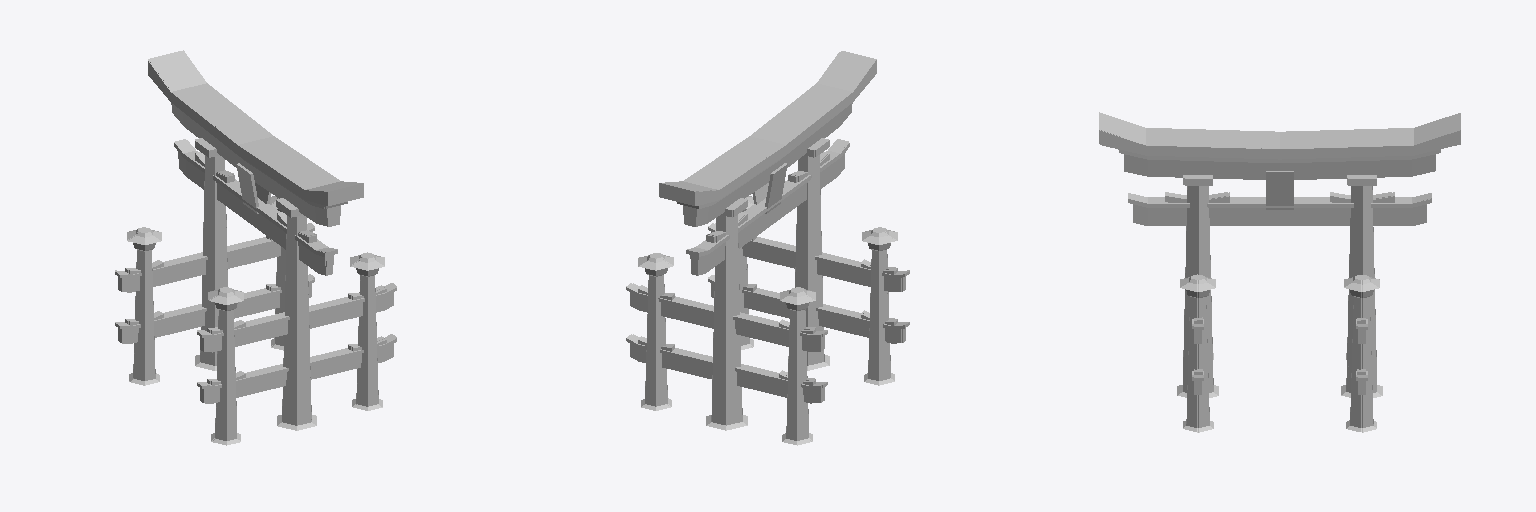
File: large.obj
The picture shows the model from 3 angles: view 1: azimuth 30°, elevation 25°; view 2: azimuth 150°, elevation 25°; view 3: azimuth 270°, elevation 25°; orthographic projection.
Parts seen in each view (by area): view 1: OWnG_largeGate(RyobuTorii)_01_Cylinder.002, OWnG_largeGate(RyobuTorii)_01_Cylinder.001; view 2: OWnG_largeGate(RyobuTorii)_01_Cylinder.001, OWnG_largeGate(RyobuTorii)_01_Cylinder.002; view 3: OWnG_largeGate(RyobuTorii)_01_Cylinder.001, OWnG_largeGate(RyobuTorii)_01_Cylinder.002.
Boxes of the visible parts, <box> form: OWnG_largeGate(RyobuTorii)_01_Cylinder.002: <box>115,60,396,445</box>; OWnG_largeGate(RyobuTorii)_01_Cylinder.001: <box>115,50,396,441</box>; OWnG_largeGate(RyobuTorii)_01_Cylinder.001: <box>626,52,905,445</box>; OWnG_largeGate(RyobuTorii)_01_Cylinder.002: <box>630,51,909,441</box>; OWnG_largeGate(RyobuTorii)_01_Cylinder.001: <box>1100,113,1460,432</box>; OWnG_largeGate(RyobuTorii)_01_Cylinder.002: <box>1099,112,1445,432</box>.
Bounding box in the file's own units: 9.86 × 12.94 × 15.75.